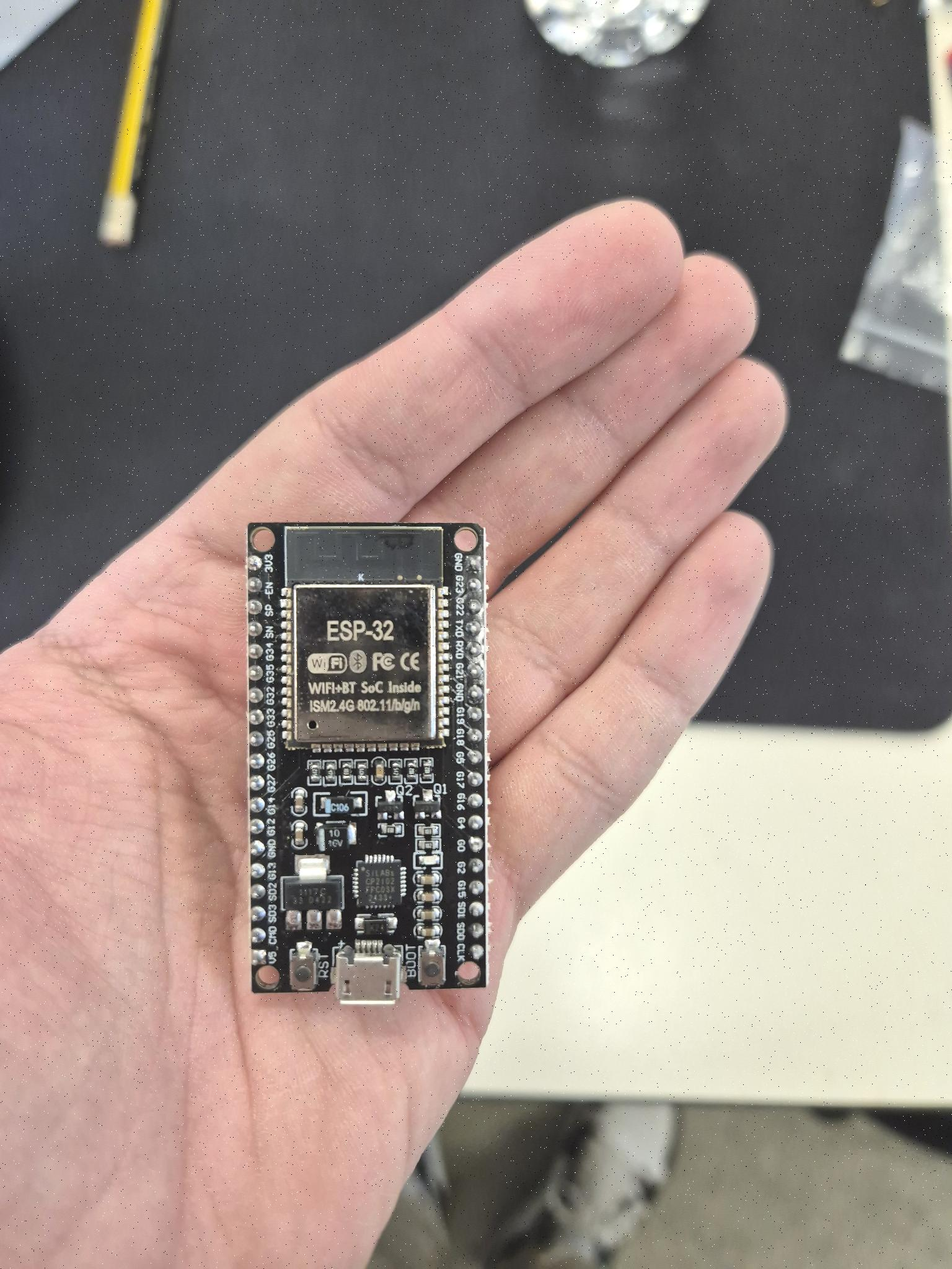esp32-dev: (248, 523, 487, 1003)
